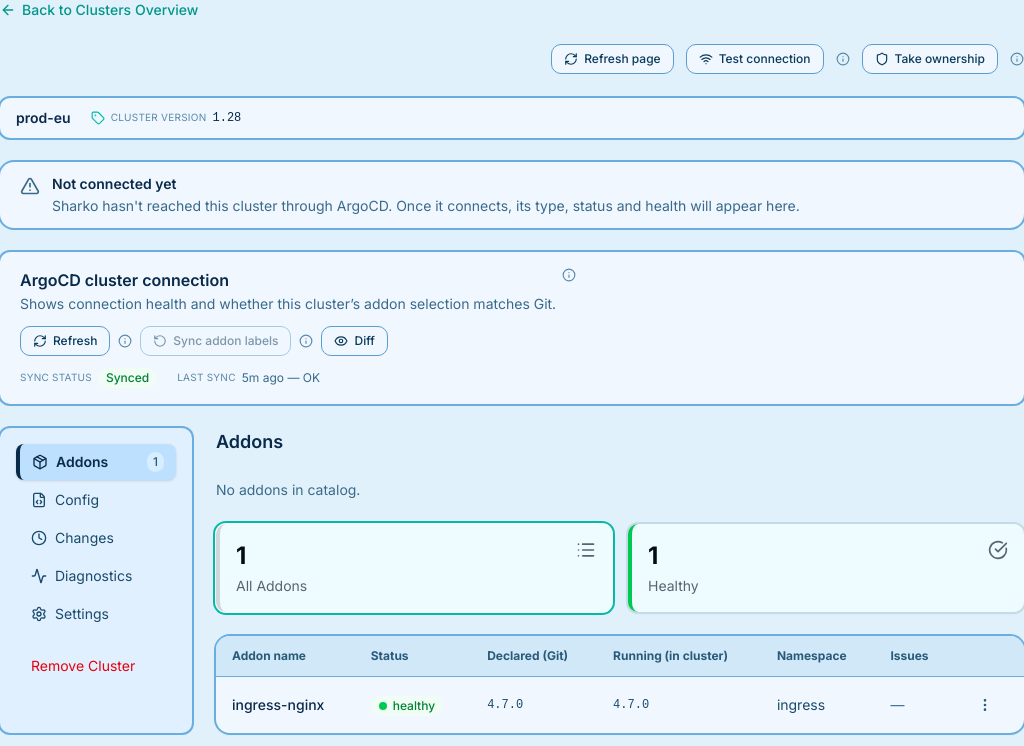
Test case: ClusterDetail — label drift diff (V3 G2) › shows "no differences" when Diff is opened and label_drift is absent
Check: the heading "prod-eu" is shown, box left=16, top=108, right=71, bottom=128
Click the button "Diff" at (355, 341), box left=322, top=326, right=388, bottom=356
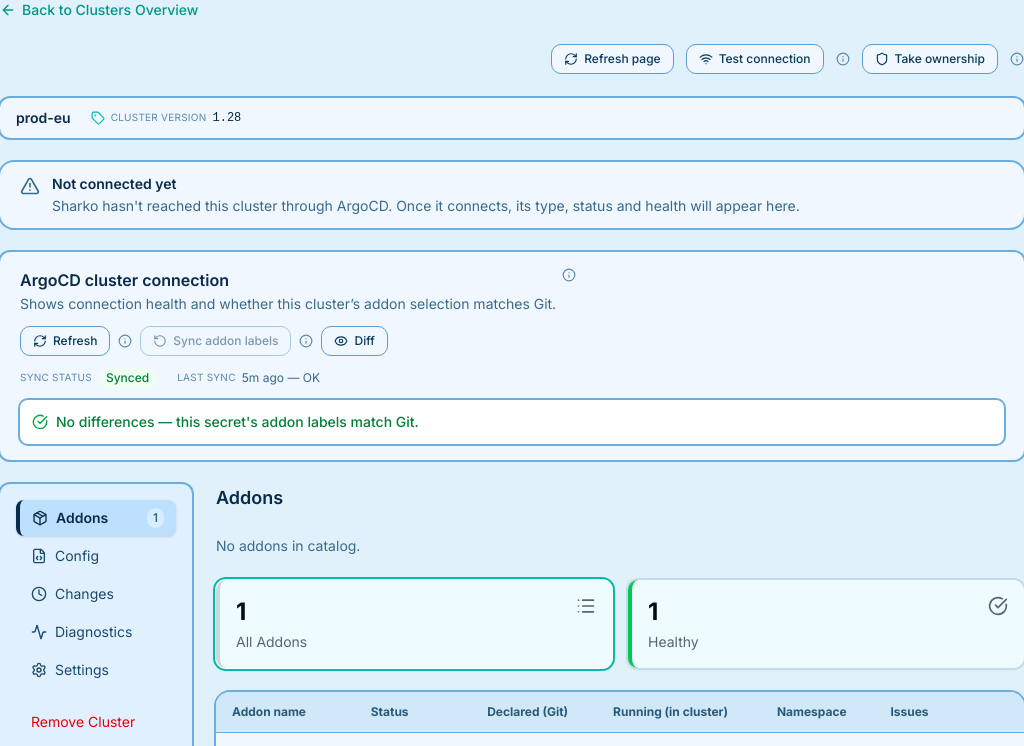
Check: the text "No differences — this secret's addon labels match Git." is shown, box left=56, top=412, right=419, bottom=432
